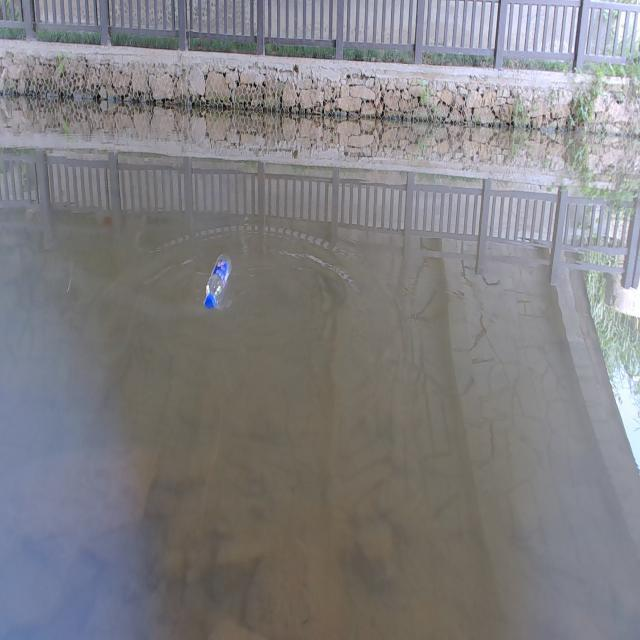bottle: (198, 237, 242, 317)
